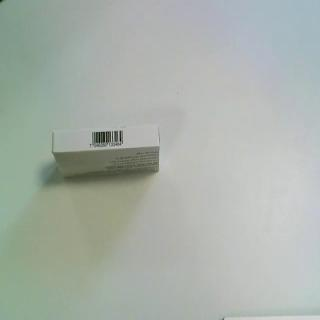oxycontin5mg: (51, 124, 163, 182)
